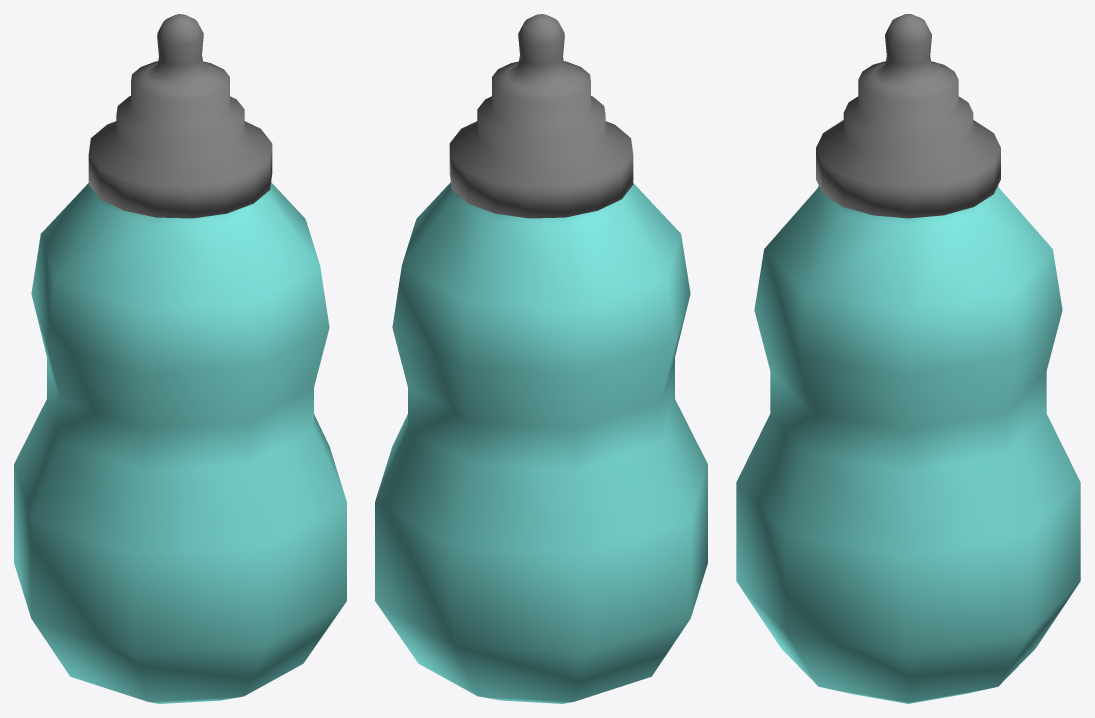
Rendered from BabyBottle.fbx.
3 renders of one model, left to right at view 1: azimuth 30°, elevation 25°; view 2: azimuth 150°, elevation 25°; view 3: azimuth 270°, elevation 25°, orthographic.
Parts seen in each view (by area): view 1: BabyBottle; view 2: BabyBottle; view 3: BabyBottle.
Part boxes in pixels (x1=…): BabyBottle: x1=14, y1=14, x2=346, y2=703; BabyBottle: x1=375, y1=14, x2=707, y2=703; BabyBottle: x1=736, y1=14, x2=1080, y2=703.
Bounding box in the file's own units: 0.5322 × 1.12 × 0.5322.
